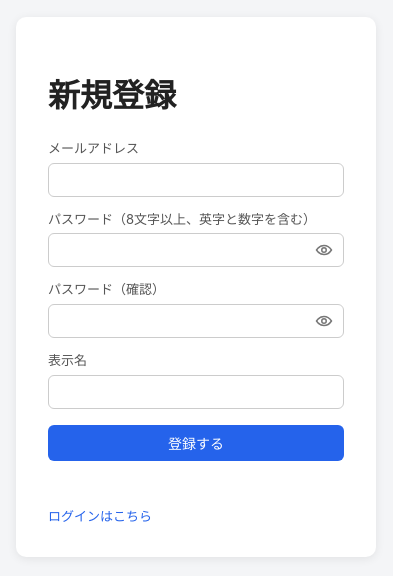
it: RegisterPage › メール重複（409）はエラーメッセージを表示する
Type "taro@example.com" into the field labelled "メールアドレス" at point(196, 180), box [48,163,344,197]
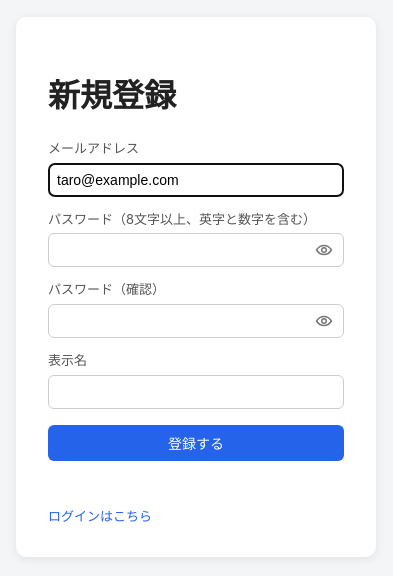
Type "Passw0rd" into the password field labelled "パスワード（8文字以上、英字と数字を含む）" at point(196, 250), box [48,233,344,267]
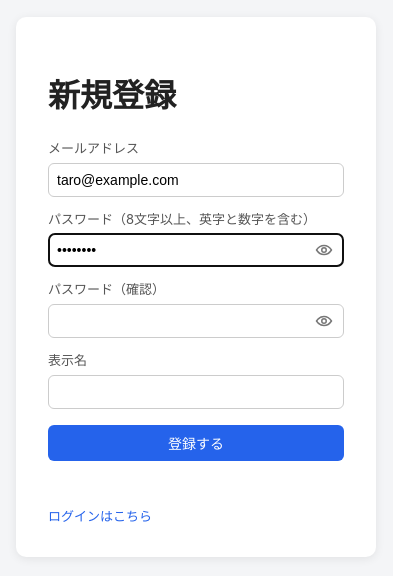
Type "Passw0rd" into the password field labelled "パスワード（確認）" at point(196, 321), box [48,304,344,338]
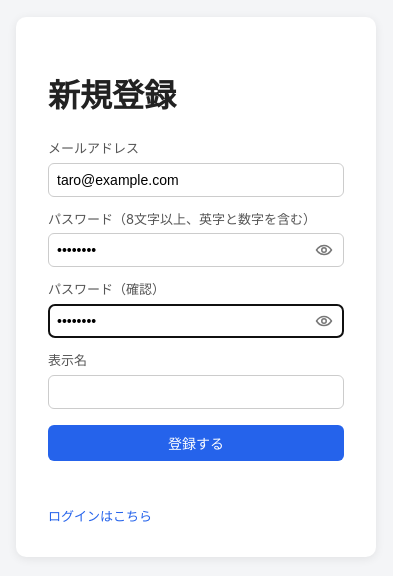
Type "太郎" into the field labelled "表示名" at point(196, 392), box [48,375,344,409]
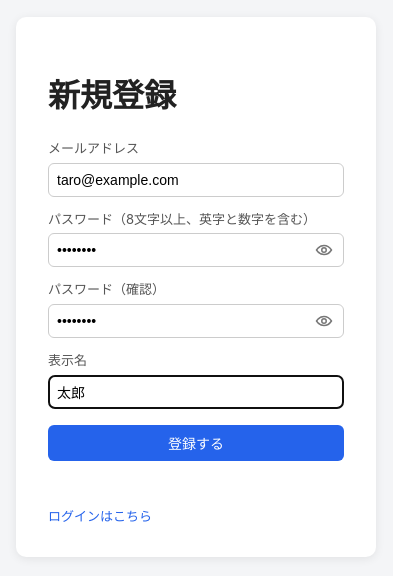
Click the button "登録する" at point(196, 443), box [48,425,344,461]
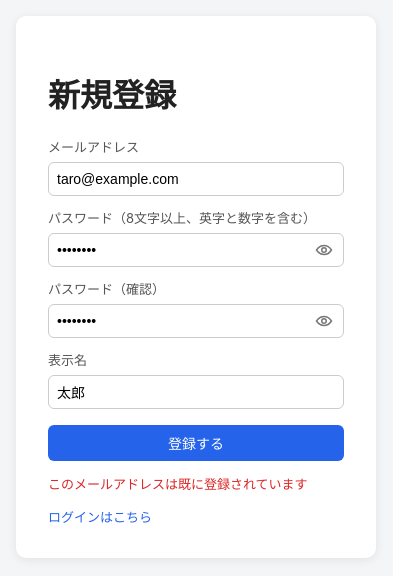
expect the text "このメールアドレスは既に登録されています" is shown: met, box [48,474,344,492]
